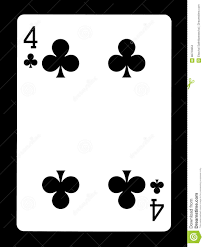four of clubs: (17, 14, 172, 231)
